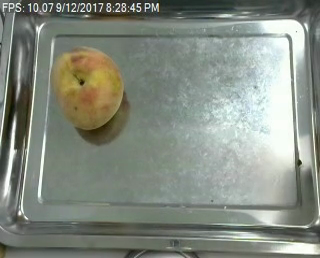Peach: (50, 44, 125, 131)
